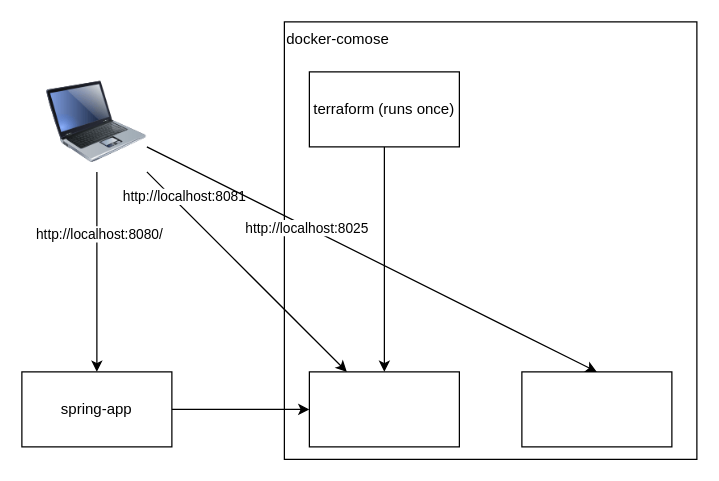
Some shapes in this 719 by 481 pixel diagram are drawn without their labels. The centre of each missing label's shape, as x and y in pixels:
"keycloak" goes at (x=383, y=409).
"mailhog" goes at (x=596, y=409).
